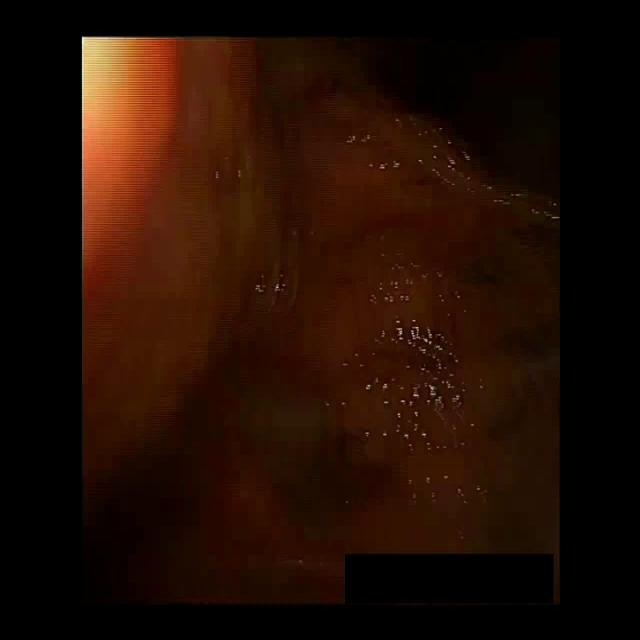surgical-area: (82, 39, 566, 603)
